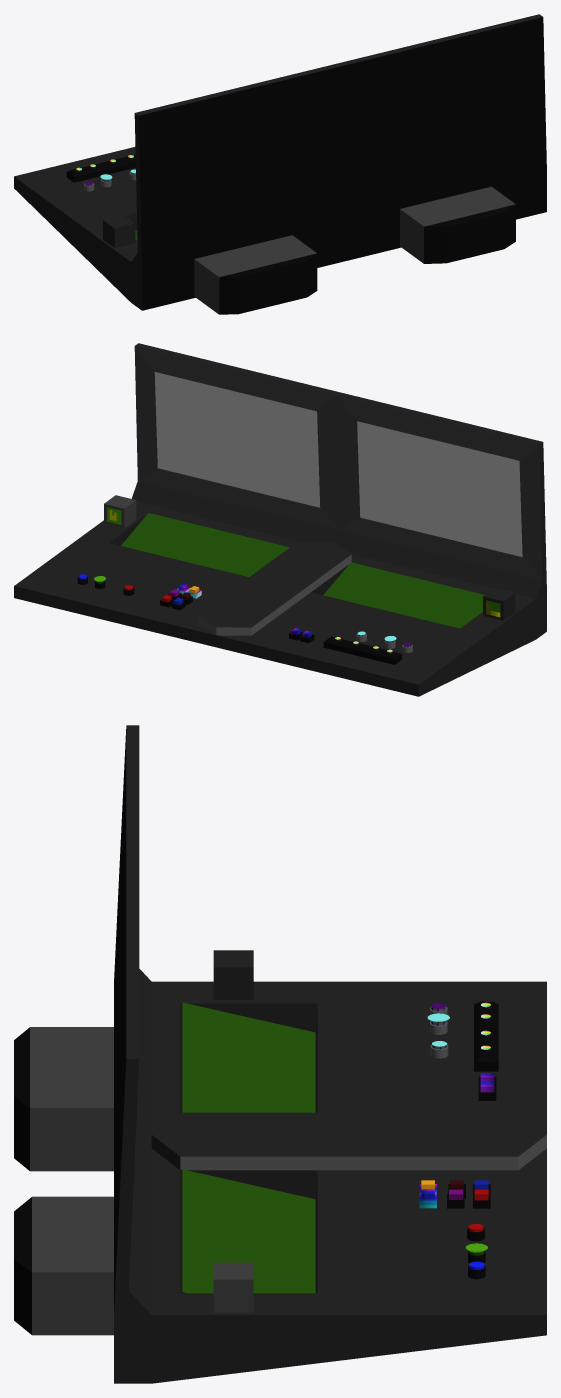
File: radioComputer.fbx
The picture shows the model from 3 angles, top to bottom: view 1: azimuth 30°, elevation 25°; view 2: azimuth 150°, elevation 25°; view 3: azimuth 270°, elevation 25°; orthographic projection. The views are drawn at different scales.
Visible parts, largest first — view 1: Cube; view 2: Cube; view 3: Cube.
Part boxes in pixels (x1=…): Cube: x1=14, y1=14, x2=546, y2=314; Cube: x1=14, y1=343, x2=546, y2=696; Cube: x1=14, y1=725, x2=546, y2=1383.
Size of the model in its own units: 543 by 246 by 366.
